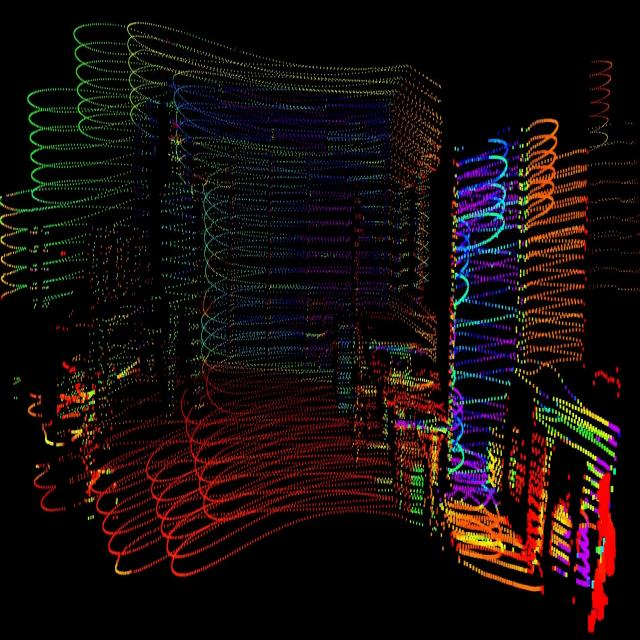human: (154, 89, 213, 442)
